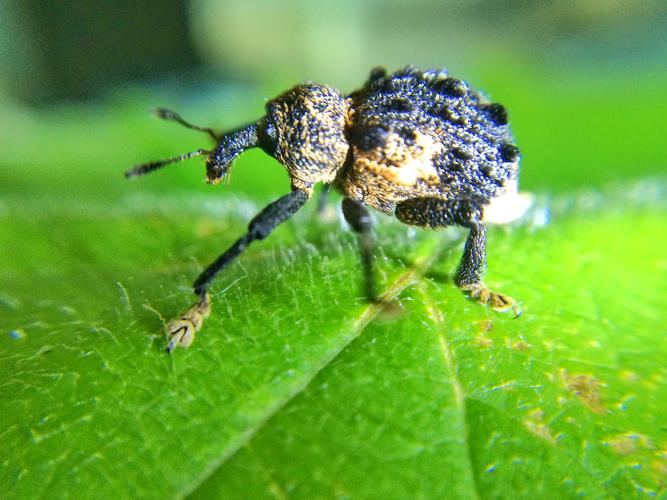Curculionidae: (122, 64, 523, 353)
